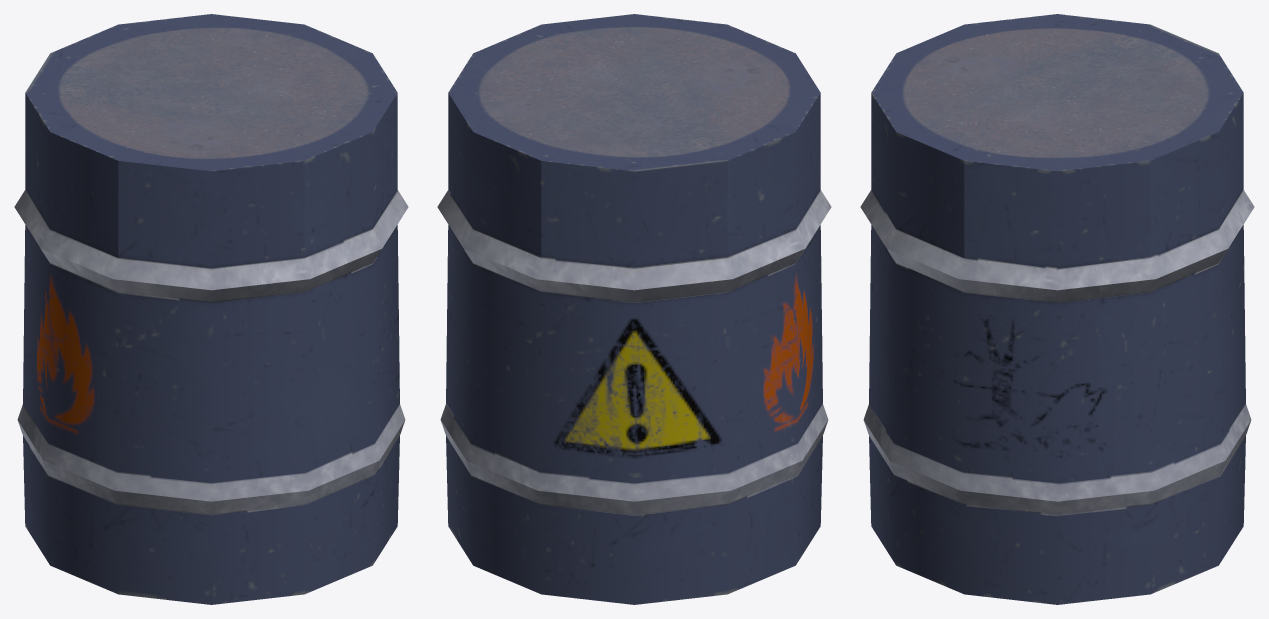
File: barrel.fbx
The picture shows the model from 3 angles, left to right: view 1: azimuth 30°, elevation 25°; view 2: azimuth 150°, elevation 25°; view 3: azimuth 270°, elevation 25°; orthographic projection.
Parts seen in each view (by area): view 1: Cylinder.003; view 2: Cylinder.003; view 3: Cylinder.003.
Boxes of the visible parts, bbox=[...] form: Cylinder.003: bbox=[14, 14, 408, 604]; Cylinder.003: bbox=[437, 14, 831, 604]; Cylinder.003: bbox=[860, 14, 1254, 604].
Size of the model in its own units: 569 by 690 by 569.
Materials: 1 (1 with a texture image).
